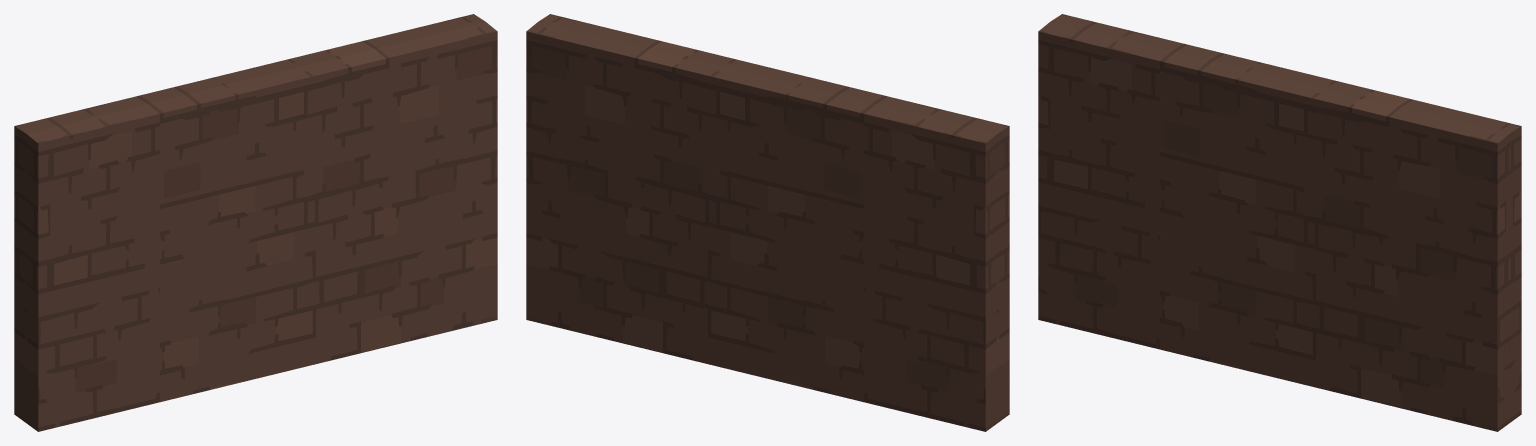
Rendered from SM_Bld_Base_Wall_Half_01.obj.
The picture shows the model from 3 angles, left to right: view 1: azimuth 30°, elevation 25°; view 2: azimuth 150°, elevation 25°; view 3: azimuth 330°, elevation 25°; orthographic projection.
Parts seen in each view (by area): view 1: SM_Bld_Base_Wall_Half_01_1, SM_Bld_Base_Wall_Half_01_0; view 2: SM_Bld_Base_Wall_Half_01_0, SM_Bld_Base_Wall_Half_01_1; view 3: SM_Bld_Base_Wall_Half_01_1, SM_Bld_Base_Wall_Half_01_0.
Part boxes in pixels (<box>): SM_Bld_Base_Wall_Half_01_1: <box>26,21,497,431</box>; SM_Bld_Base_Wall_Half_01_0: <box>14,14,484,422</box>; SM_Bld_Base_Wall_Half_01_0: <box>526,21,997,431</box>; SM_Bld_Base_Wall_Half_01_1: <box>539,14,1009,422</box>; SM_Bld_Base_Wall_Half_01_1: <box>1038,21,1509,431</box>; SM_Bld_Base_Wall_Half_01_0: <box>1051,14,1521,422</box>.
Size of the model in its own units: 2.5 by 1.51 by 0.225.
2 materials, 2 textured.
